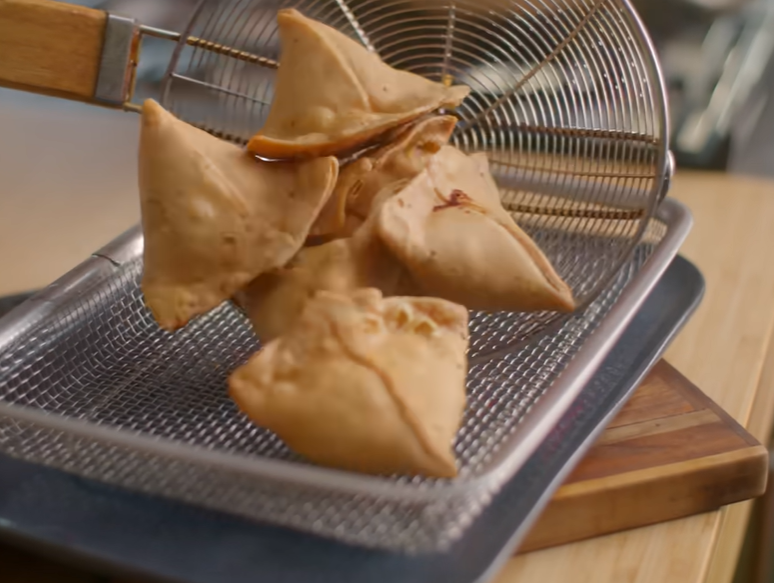samosa: (129, 91, 339, 334), (230, 289, 477, 481), (347, 146, 579, 299), (264, 3, 466, 153)
